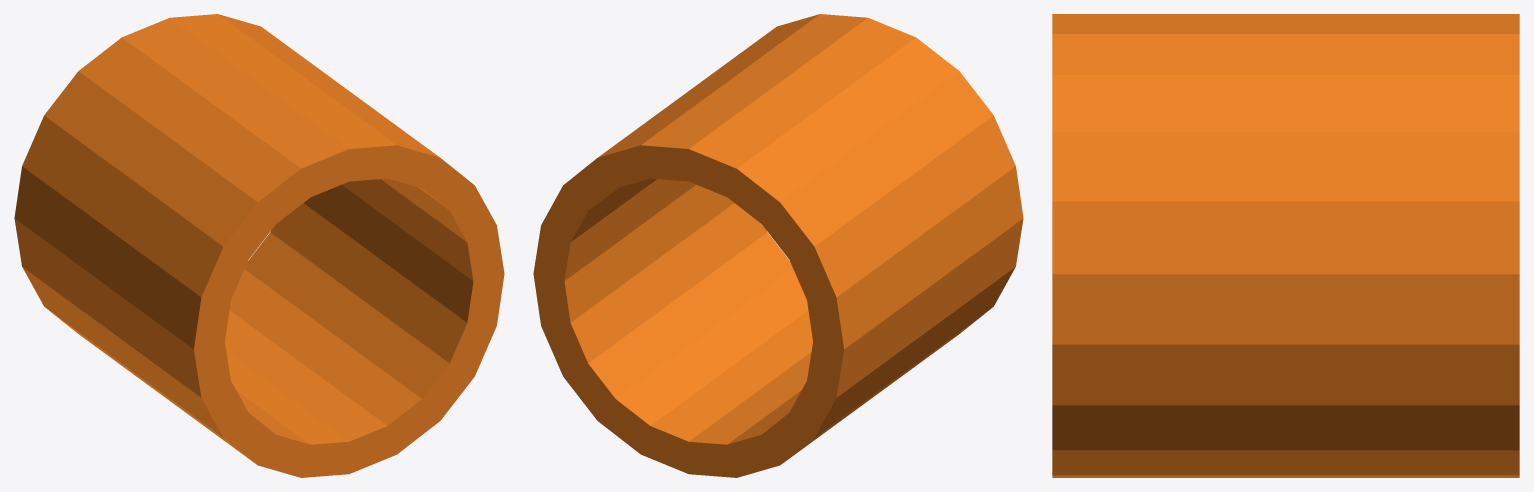
File: tinker.obj
3 renders of one model, left to right at view 1: azimuth 30°, elevation 25°; view 2: azimuth 150°, elevation 25°; view 3: azimuth 270°, elevation 25°, orthographic. The views are drawn at different scales.
Parts seen in each view (by area): view 1: obj_0; view 2: obj_0; view 3: obj_0.
Boxes of the visible parts, <box> form: obj_0: <box>14,14,504,477</box>; obj_0: <box>533,14,1023,477</box>; obj_0: <box>1052,14,1519,477</box>.
Bounding box in the file's own units: 20 × 20 × 20.
